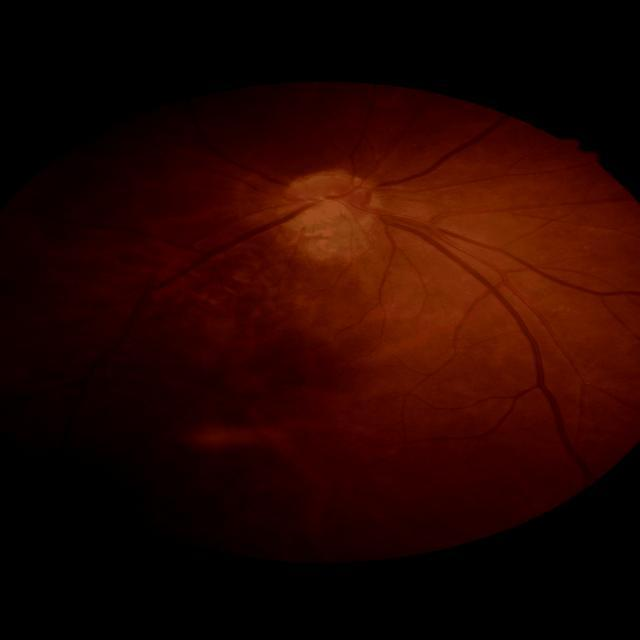cup: (306, 195, 351, 215)
disk: (288, 170, 382, 224)
